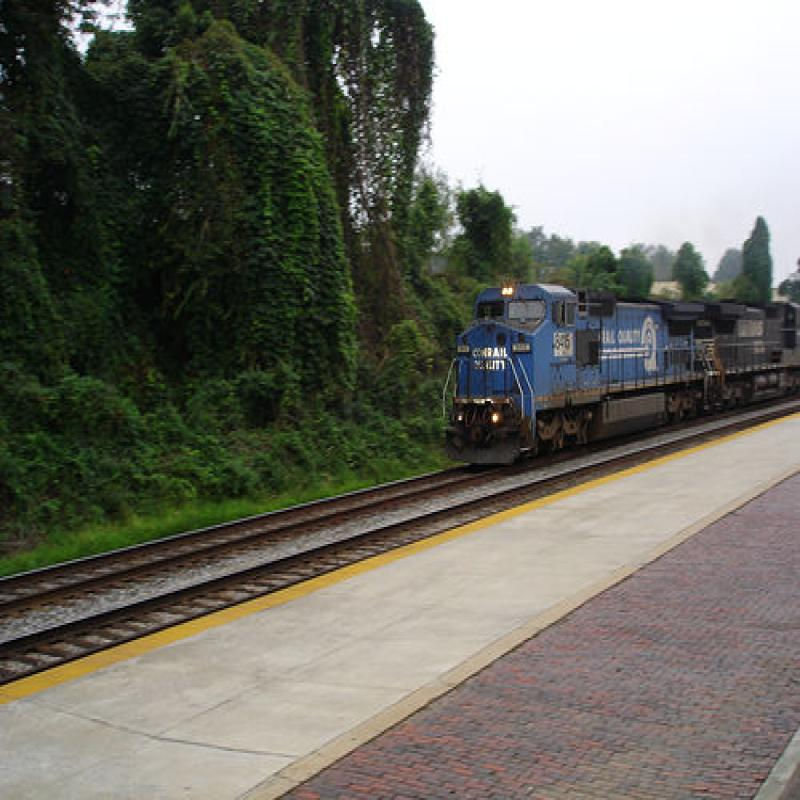train: (435, 276, 800, 468)
